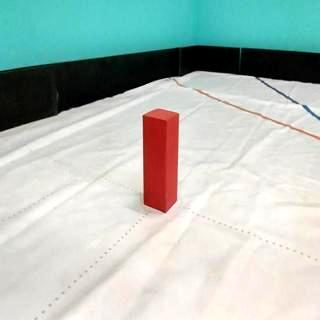redbox: (142, 107, 180, 215)
